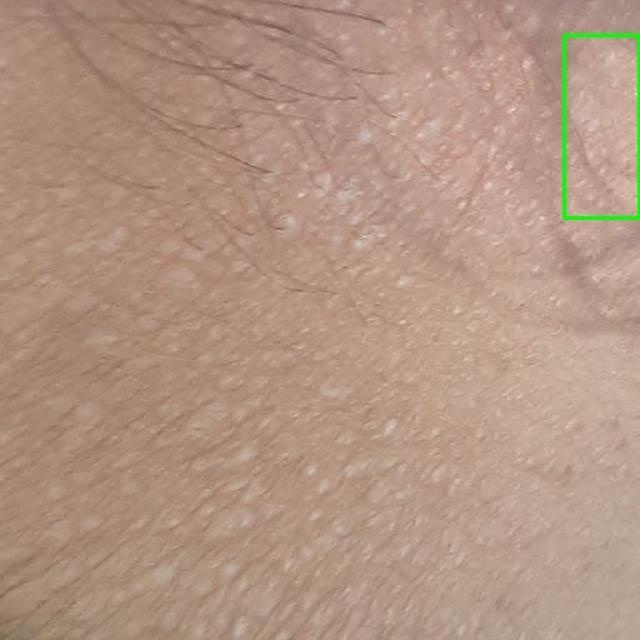Contact Dermatitis: (564, 35, 639, 218)
